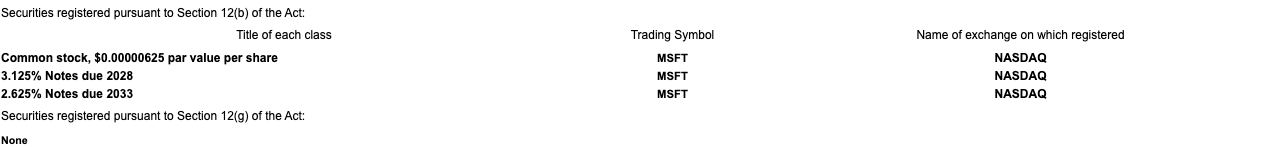table column: (0, 0, 567, 147), (777, 0, 1264, 147), (584, 0, 760, 147), (567, 0, 584, 147), (760, 0, 777, 147)
table row: (0, 49, 1264, 67), (0, 67, 1264, 85), (0, 85, 1264, 103), (0, 5, 1264, 22), (0, 27, 1264, 44), (0, 108, 1264, 125), (0, 130, 1264, 147), (0, 0, 1264, 5), (0, 22, 1264, 27), (0, 44, 1264, 49), (0, 103, 1264, 108), (0, 125, 1264, 130)
